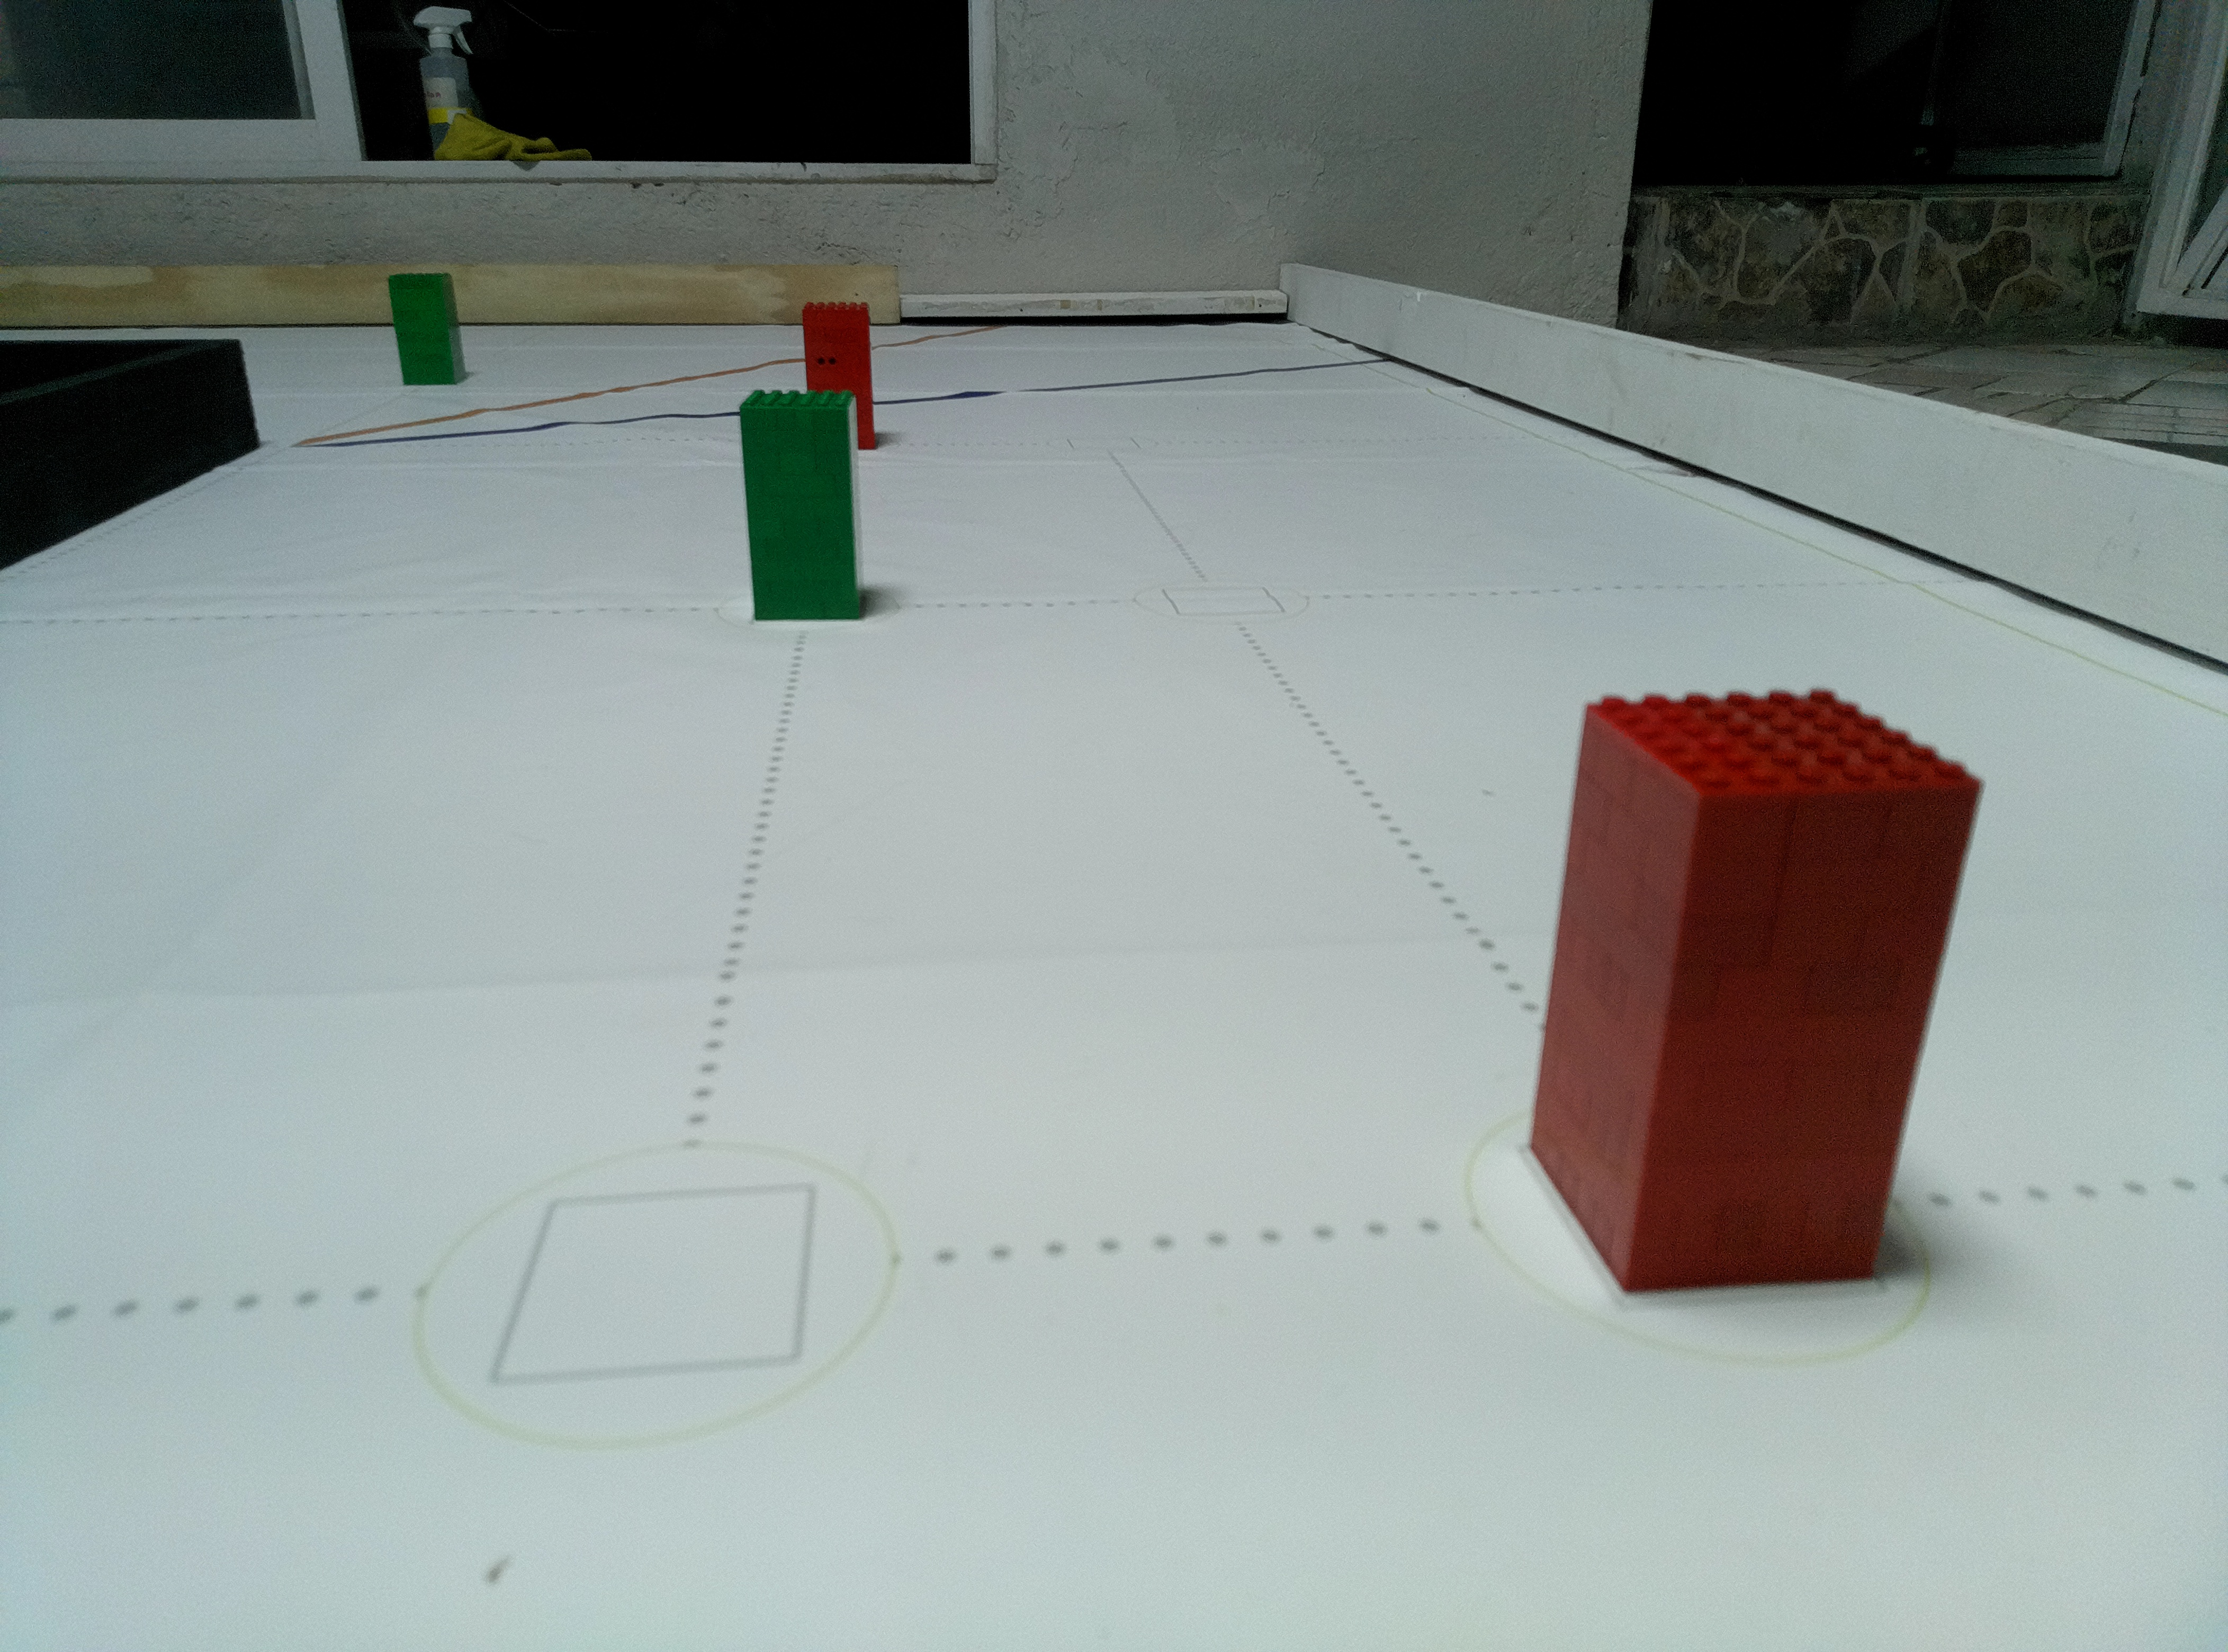greenbox: (736, 387, 868, 623), (387, 271, 469, 387)
redbox: (1517, 673, 1994, 1301), (798, 298, 876, 451)
